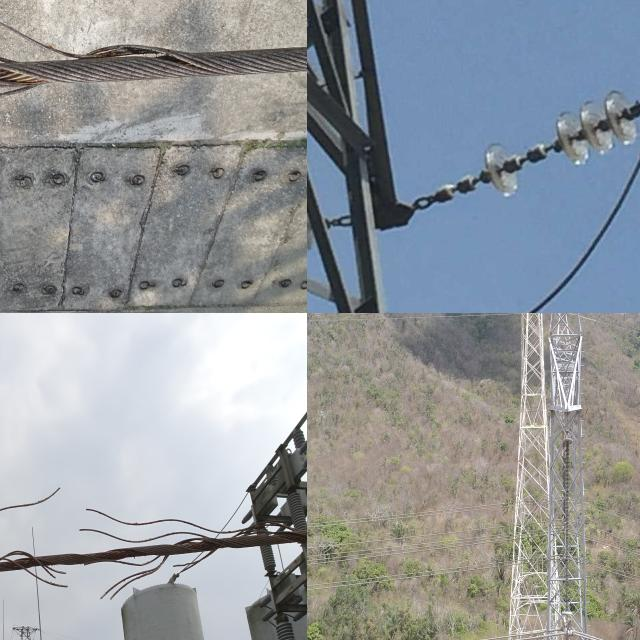杆塔: (307, 0, 433, 313), (500, 313, 586, 640), (541, 313, 598, 640)
正常绝缘子: (466, 78, 639, 207), (555, 426, 578, 620)
电缆破损: (0, 479, 281, 607)
绝缘子破损: (512, 146, 534, 174), (536, 135, 556, 165)
